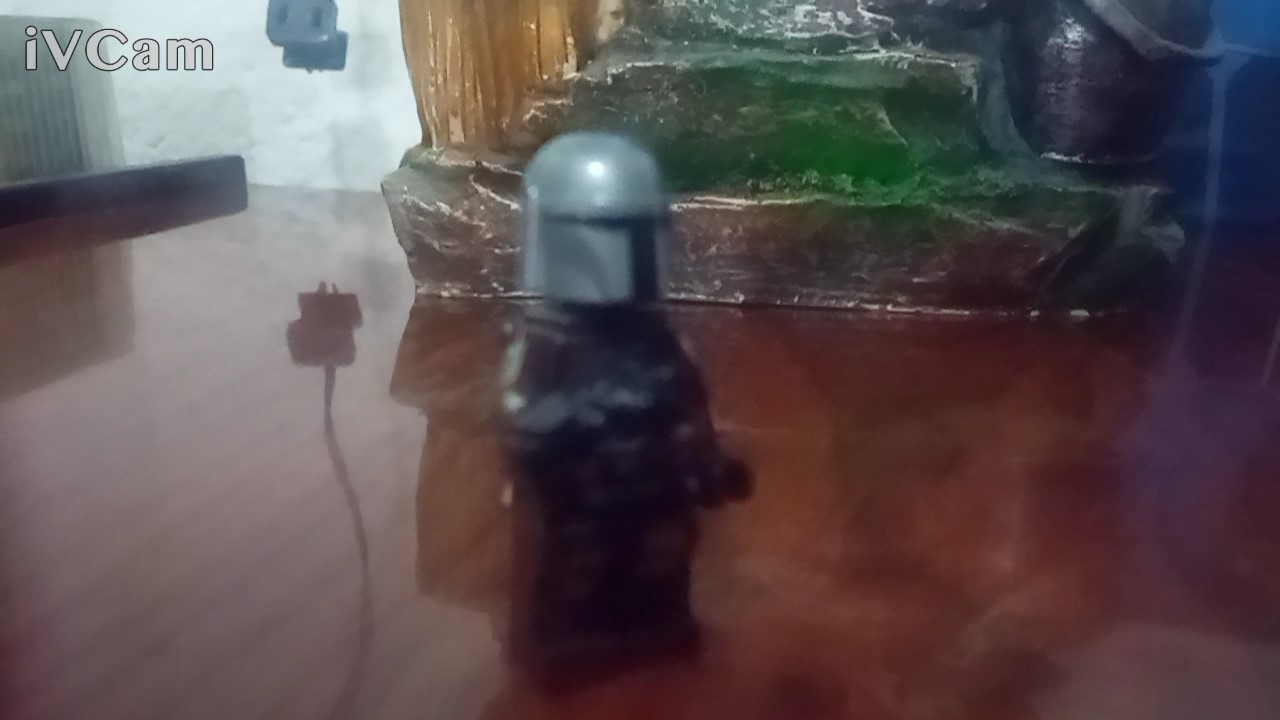mandalorian: (491, 122, 748, 693)
